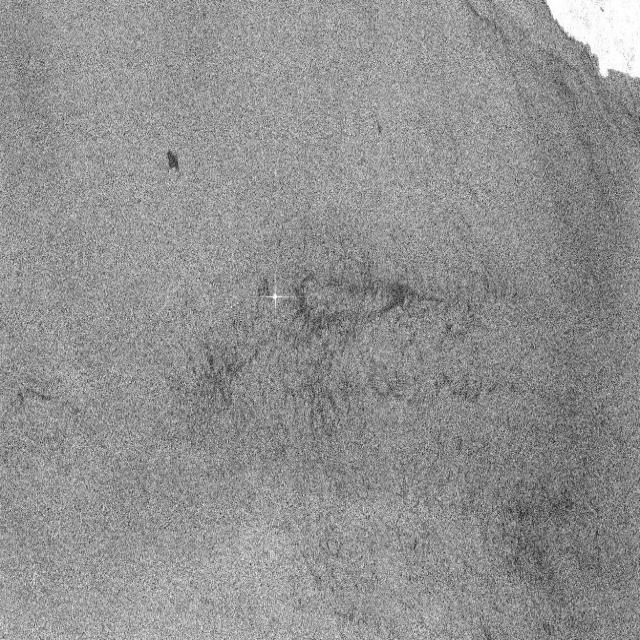look-alike: (293, 269, 428, 350), (170, 326, 260, 428)
oil-spill: (163, 137, 184, 181)
ship: (269, 284, 284, 314)
